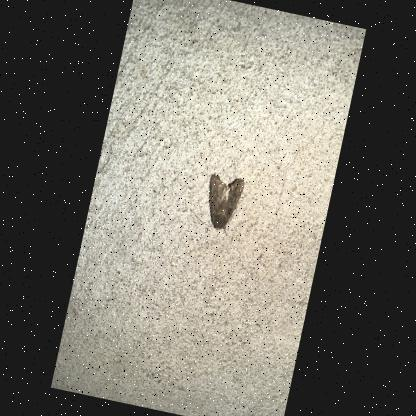Fall Armyworm Moth: (190, 170, 246, 238)
